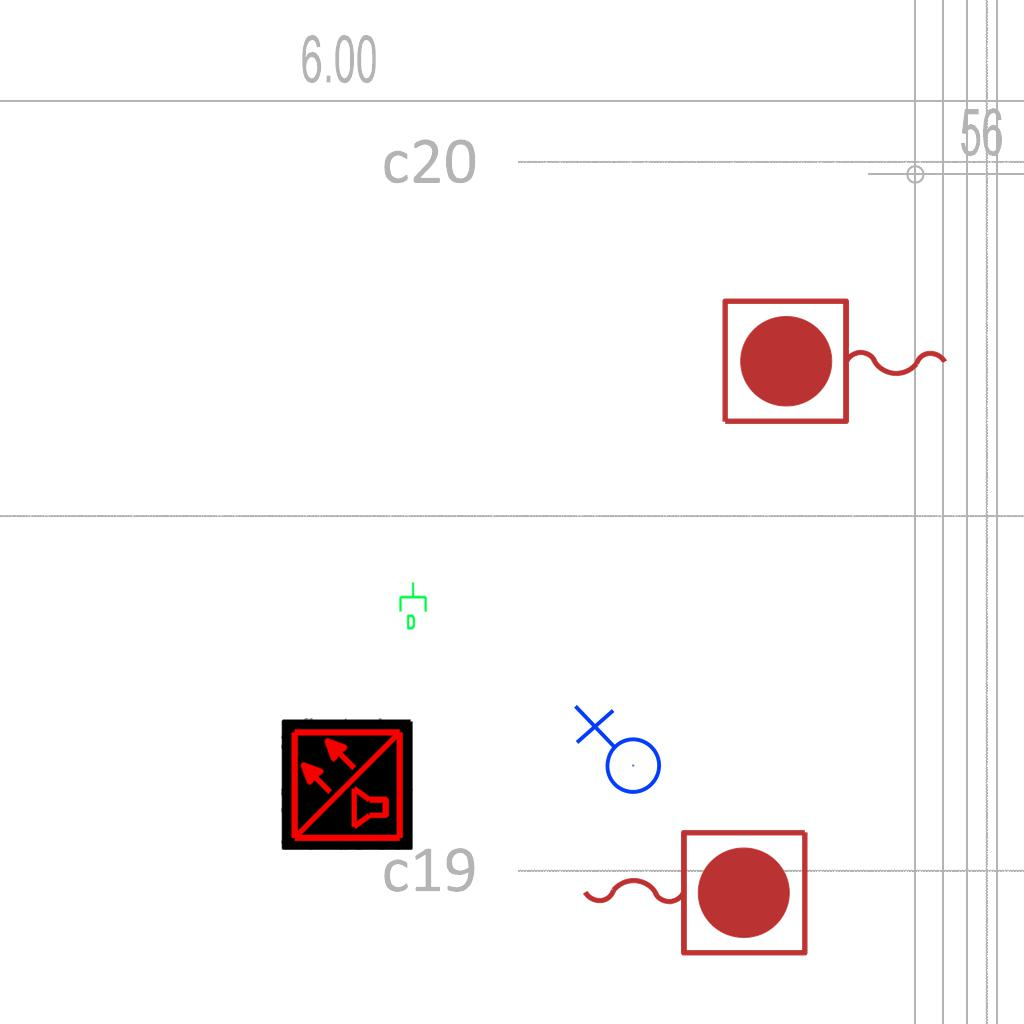Datenanschluss_einfach: (397, 581, 431, 631)
Elektroanschluss_allgemein_230V_Geraeteanschlussdose_230V: (569, 704, 663, 803)
OKW_Multisensormelder_(Kombination_optischer_Rauch-Kahlenmonoxid_Waerme-Melder): (281, 718, 413, 850)
Zugtaster: (714, 291, 958, 435), (572, 819, 816, 963)
